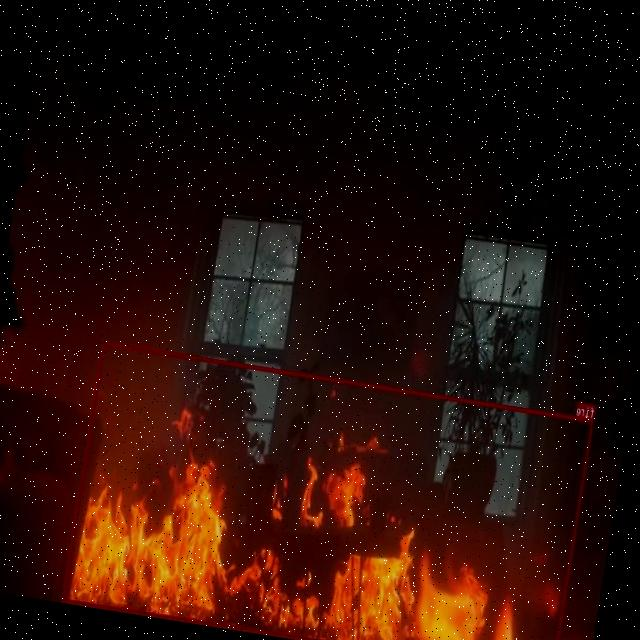fire: (63, 341, 594, 640)
